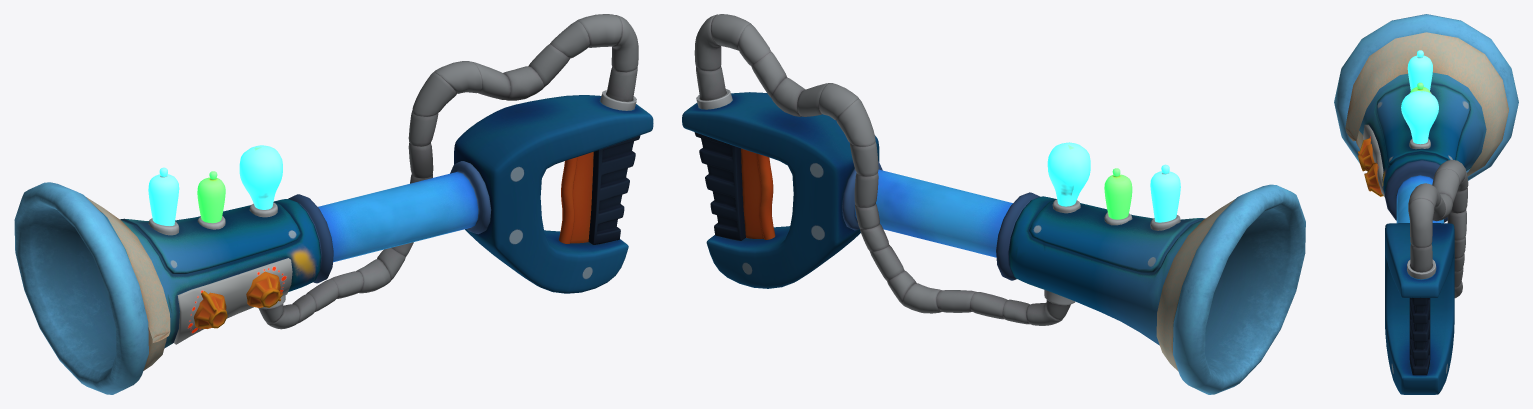
The model's file is Automat.fbx.
3 views of the same model, side by side, from view 1: azimuth 30°, elevation 25°; view 2: azimuth 150°, elevation 25°; view 3: azimuth 270°, elevation 25° (orthographic). The views are drawn at different scales.
Visible parts, largest first — view 1: Cylinder001.001, Cylinder001; view 2: Cylinder001.001, Cylinder001; view 3: Cylinder001.001, Cylinder001.
Part boxes in pixels (x1,y1,x2,y2): Cylinder001.001: [14, 95, 653, 394]; Cylinder001: [86, 14, 640, 370]; Cylinder001.001: [682, 92, 1305, 394]; Cylinder001: [694, 14, 1234, 371]; Cylinder001.001: [1334, 14, 1518, 394]; Cylinder001: [1345, 32, 1508, 375].
Bounding box in the file's own units: 200 × 84.17 × 67.18.
